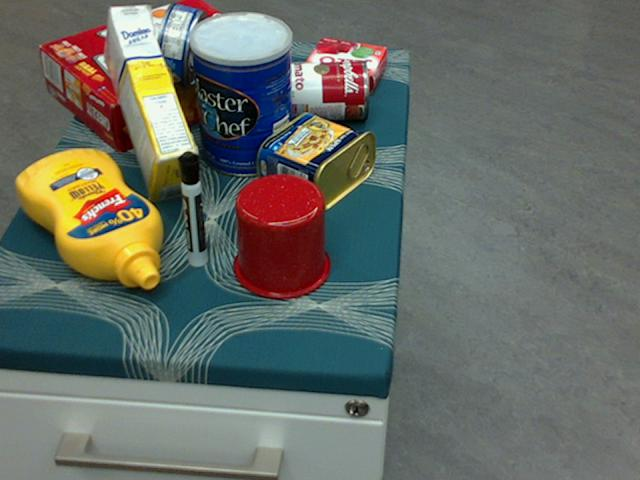cracker_box: (41, 0, 272, 153)
gelatin_box: (302, 39, 386, 91)
large_marker: (176, 151, 206, 265)
master_chef_can: (189, 11, 293, 176)
mug: (230, 172, 330, 298)
mustard_bottle: (15, 149, 161, 288)
potted_meat_can: (256, 110, 376, 211)
sugar_box: (104, 4, 199, 200)
tomato_soup_can: (276, 59, 368, 120)
tuna_fish_can: (154, 1, 207, 87)
